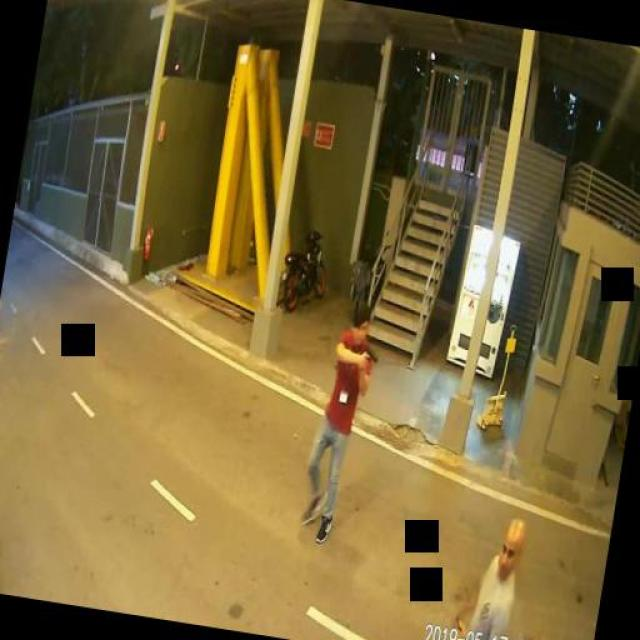gun: (358, 344, 378, 370)
